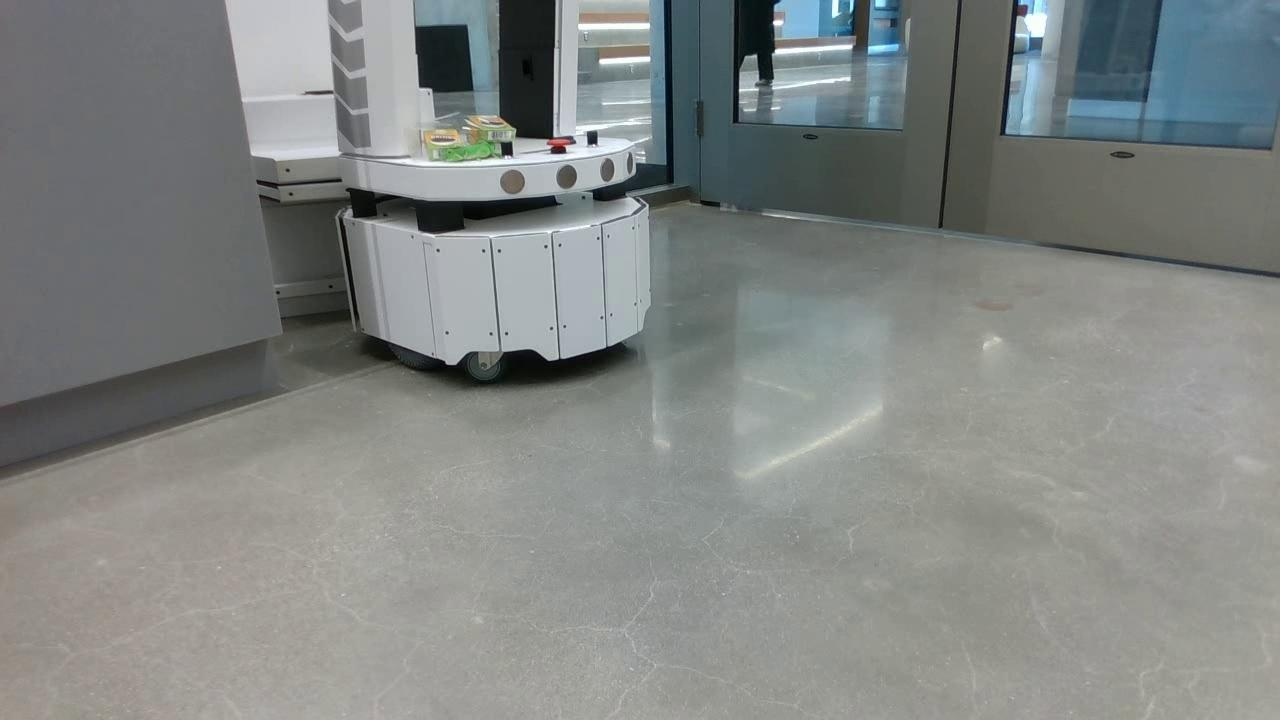grasshopper: (440, 144, 498, 162)
